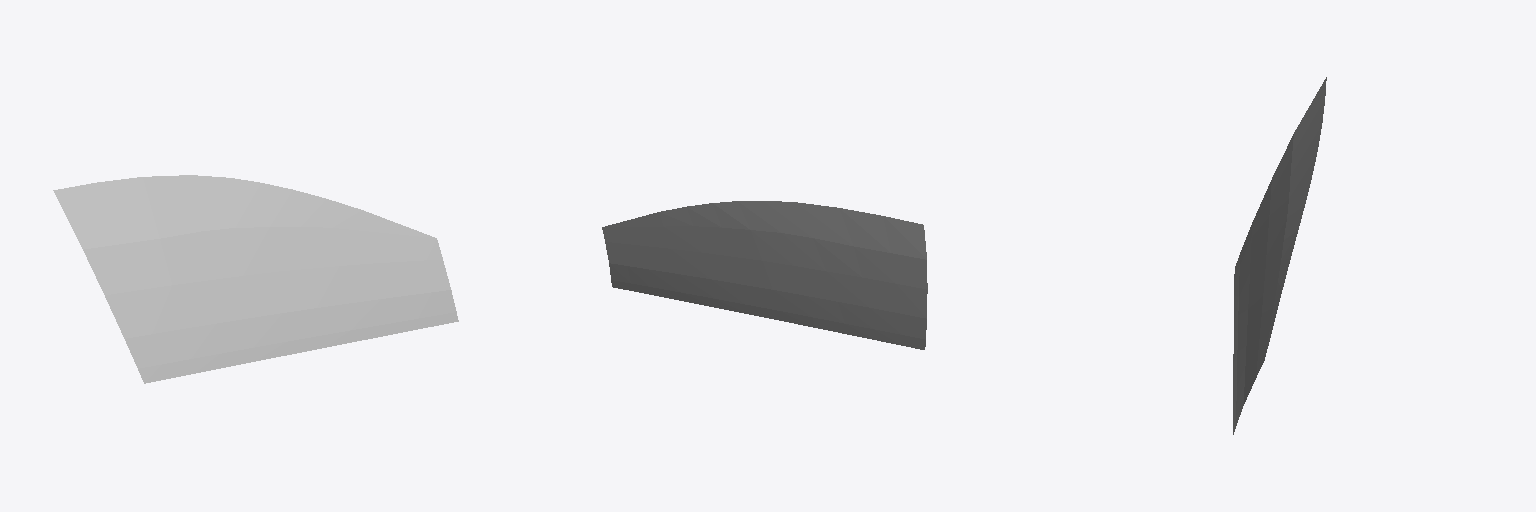
The picture shows the model from 3 angles: view 1: azimuth 30°, elevation 25°; view 2: azimuth 150°, elevation 25°; view 3: azimuth 270°, elevation 25°; orthographic projection.
Parts seen in each view (by area): view 1: X3088_285B_R_DTaSI_X3088_285B_R; view 2: X3088_285B_R_DTaSI_X3088_285B_R; view 3: X3088_285B_R_DTaSI_X3088_285B_R.
Part boxes in pixels (bbox=[...]): X3088_285B_R_DTaSI_X3088_285B_R: bbox=[53, 175, 458, 383]; X3088_285B_R_DTaSI_X3088_285B_R: bbox=[602, 201, 927, 349]; X3088_285B_R_DTaSI_X3088_285B_R: bbox=[1233, 77, 1326, 434].
Size of the model in its own units: 89.21 by 43.78 by 20.17.